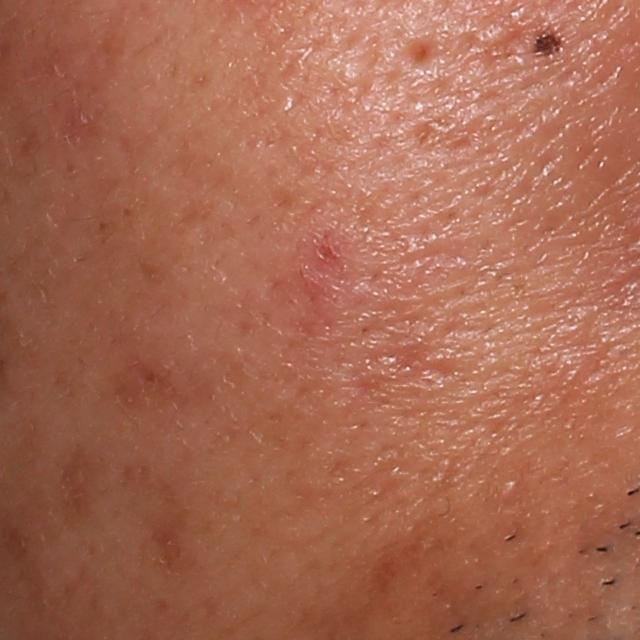atrophic_scar: (402, 31, 443, 76)
nevus: (533, 30, 563, 58)
